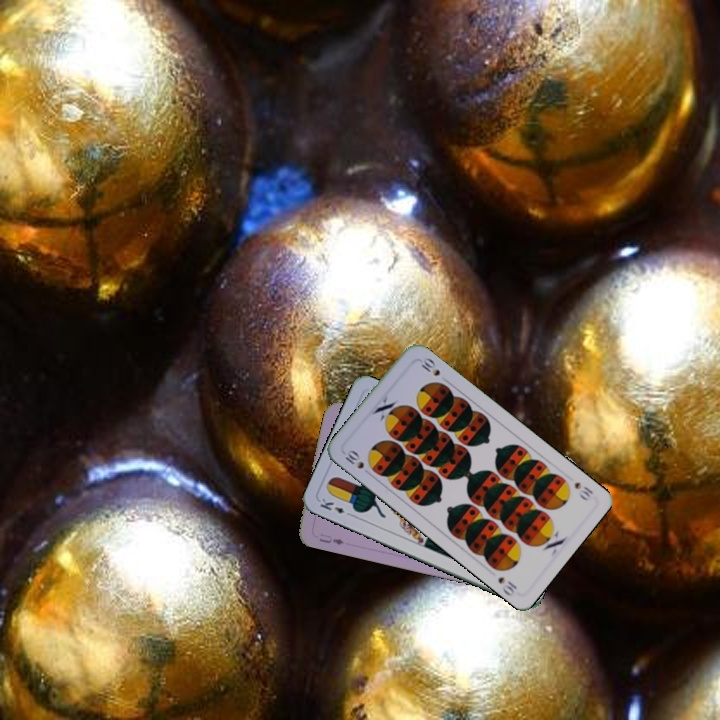EK: (316, 494, 355, 519)
EU: (315, 529, 346, 547)
S10: (339, 445, 367, 472), (570, 478, 596, 503)
